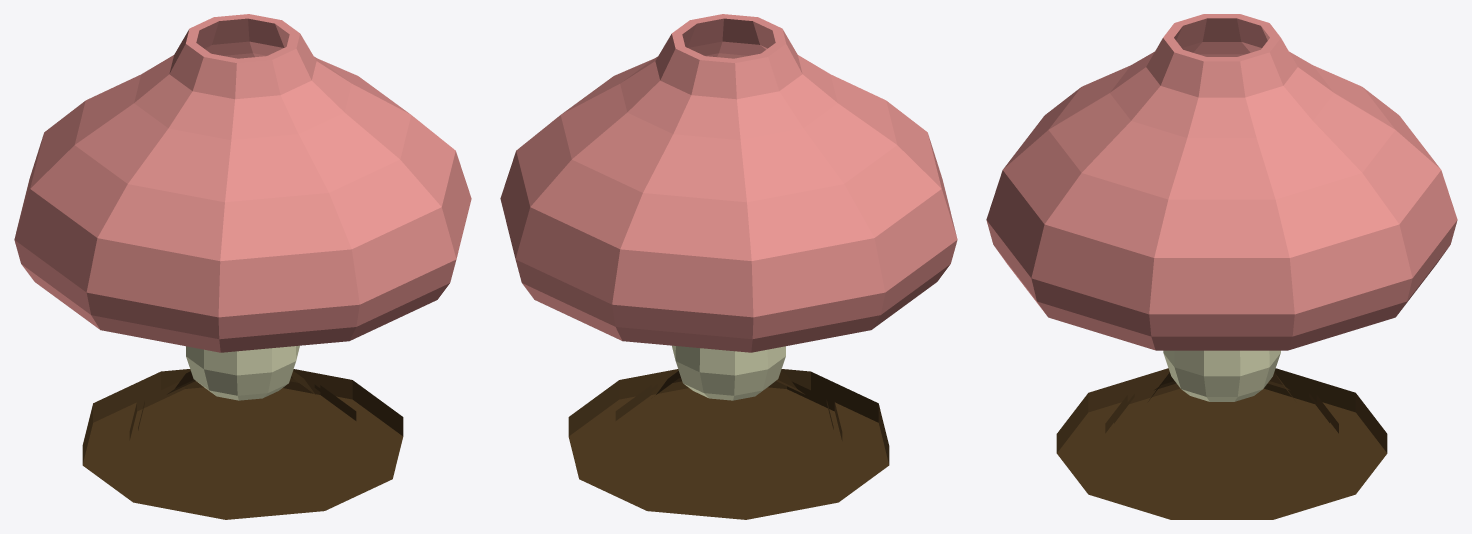
File: shroom lamp.fbx
3 views of the same model, side by side, from view 1: azimuth 30°, elevation 25°; view 2: azimuth 150°, elevation 25°; view 3: azimuth 270°, elevation 25° (orthographic).
Visible parts, largest first — view 1: Cylinder; view 2: Cylinder; view 3: Cylinder.
Boxes of the visible parts, bbox=[...] form: Cylinder: bbox=[14, 14, 471, 519]; Cylinder: bbox=[500, 14, 957, 519]; Cylinder: bbox=[986, 14, 1457, 519].
Bounding box in the file's own units: 27.6 × 28.25 × 29.02.
